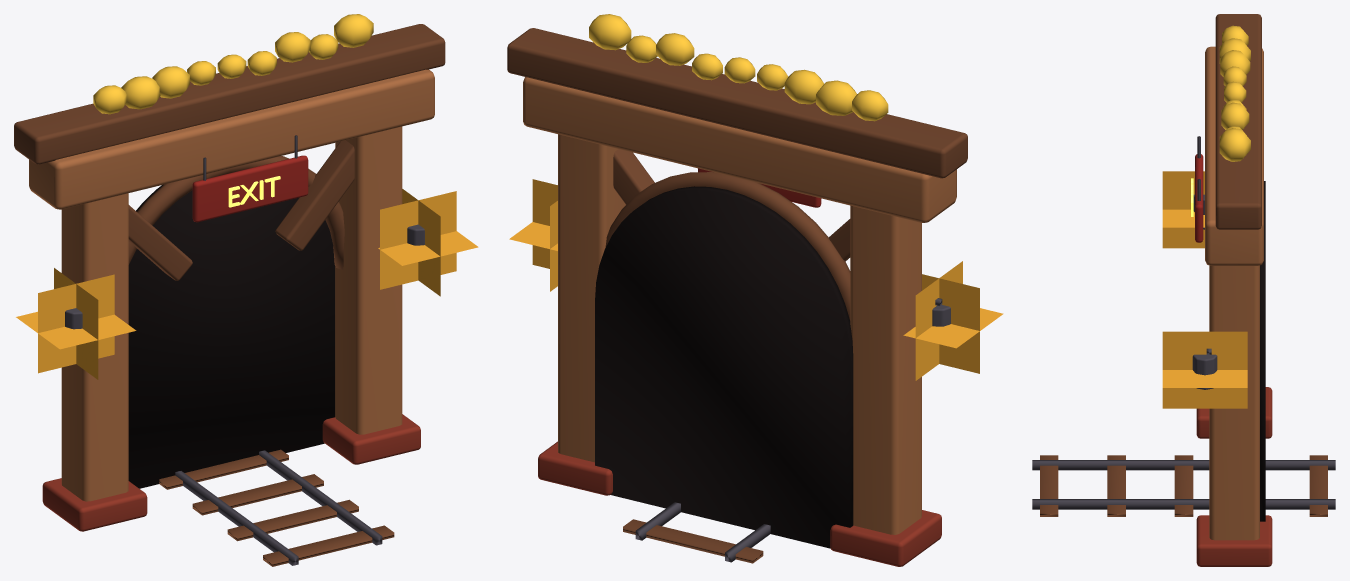
The model's file is gulch_portal_arch.glb.
The picture shows the model from 3 angles, left to right: view 1: azimuth 30°, elevation 25°; view 2: azimuth 150°, elevation 25°; view 3: azimuth 270°, elevation 25°; orthographic projection. The views are drawn at different scales.
Parts seen in each view (by area): view 1: PortalArch; view 2: PortalArch; view 3: PortalArch.
Boxes of the visible parts, x1,y1,x2,y2 form: PortalArch: (14, 14, 478, 566); PortalArch: (507, 14, 1003, 566); PortalArch: (1032, 14, 1335, 566).
Bounding box in the file's own units: 5.51 × 5.43 × 3.6.
